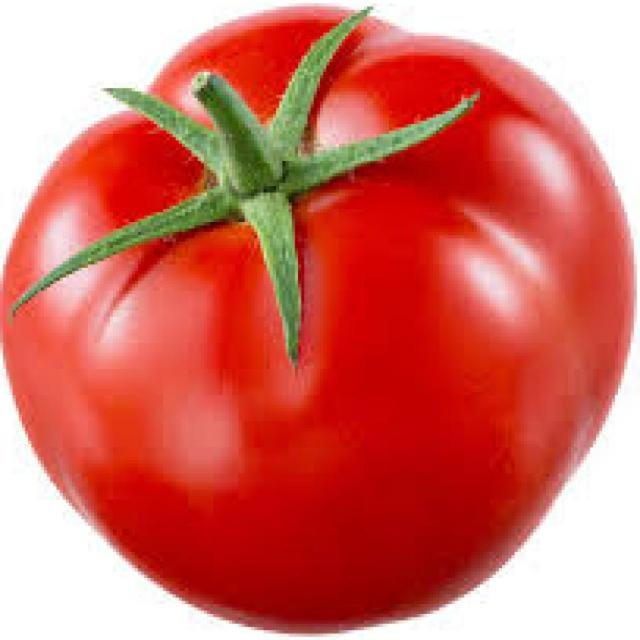Healthy Fruit: (9, 3, 427, 427)
